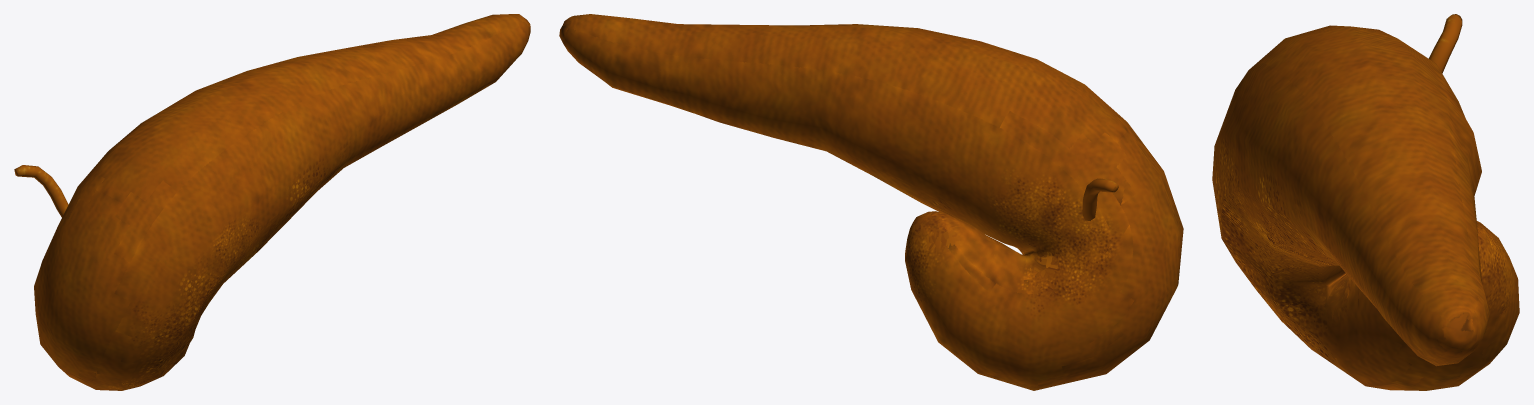
Rendered from pancreas.FBX.
3 views of the same model, side by side, from view 1: azimuth 30°, elevation 25°; view 2: azimuth 150°, elevation 25°; view 3: azimuth 270°, elevation 25° (orthographic). The views are drawn at different scales.
Parts seen in each view (by area): view 1: Pancreas, Kanal; view 2: Pancreas, Kanal; view 3: Pancreas, Kanal.
Part boxes in pixels (bbox=[...]): Pancreas: bbox=[34, 14, 530, 390]; Kanal: bbox=[14, 165, 68, 217]; Pancreas: bbox=[559, 14, 1183, 390]; Kanal: bbox=[1082, 178, 1118, 220]; Pancreas: bbox=[1212, 25, 1519, 390]; Kanal: bbox=[1428, 14, 1462, 73].
Size of the model in its own units: 9.07 by 4.67 by 3.31.
